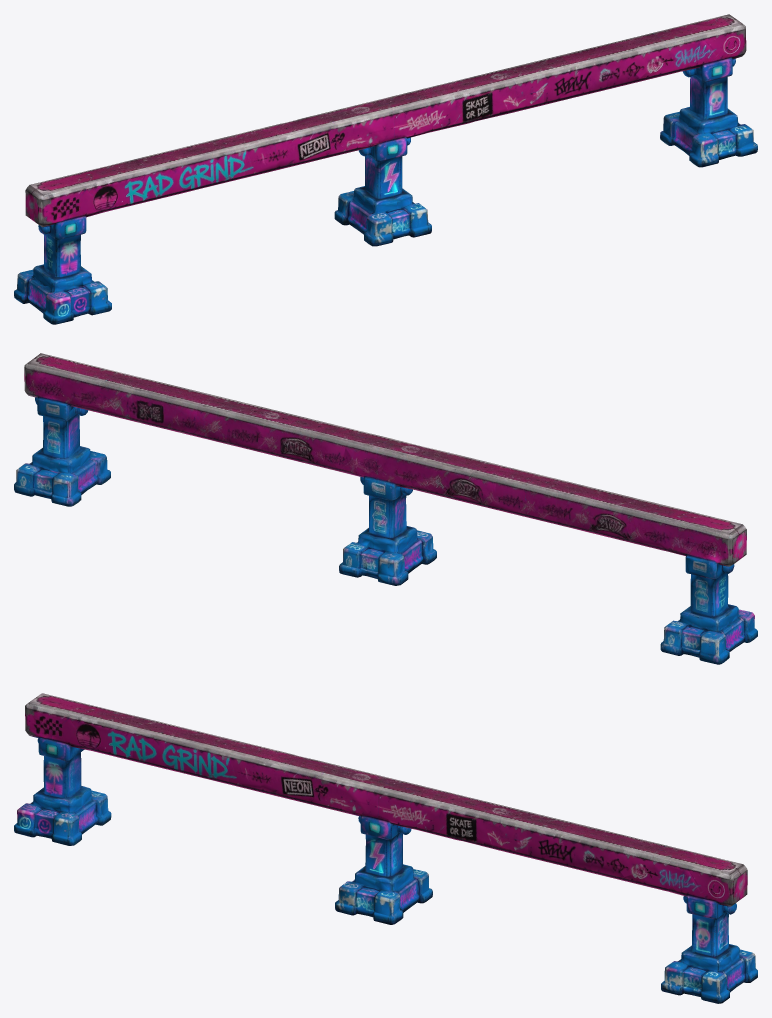
The model's file is grind_rail.glb.
The picture shows the model from 3 angles, top to bottom: view 1: azimuth 30°, elevation 25°; view 2: azimuth 150°, elevation 25°; view 3: azimuth 330°, elevation 25°; orthographic projection.
Visible parts, largest first — view 1: mesh_node; view 2: mesh_node; view 3: mesh_node.
Boxes of the visible parts, x1,y1,x2,y2 form: mesh_node: [14, 14, 757, 324]; mesh_node: [14, 353, 757, 664]; mesh_node: [14, 693, 757, 1003].
Size of the model in its own units: 1.9 by 0.313 by 0.1915.
Materials: 1 (1 with a texture image).
